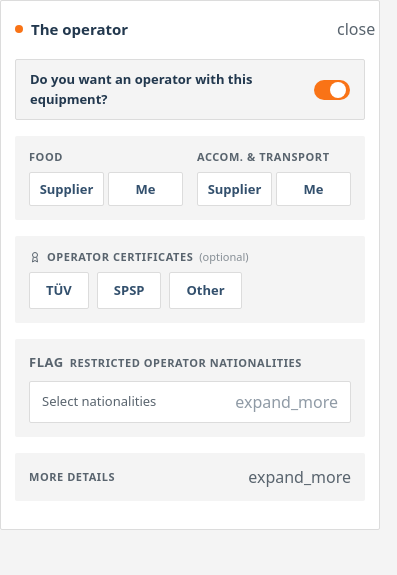
operator certificates (MREQ-AC-27) › reveals a free-text box for Other
Expected: the field with placeholder "Name the certificate" is not shown
Click the button "Other" at (206, 291), box [170,272,242,309]
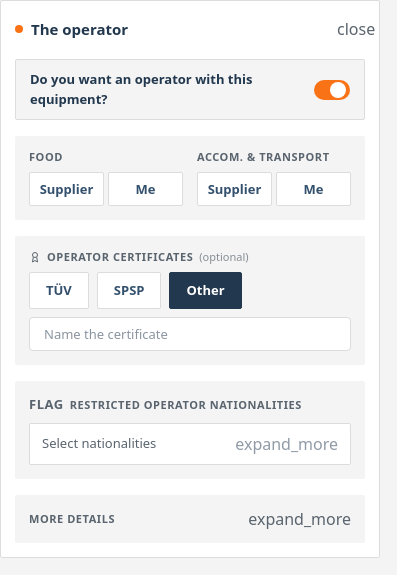
Expected: the field with placeholder "Name the certificate" is shown, [29,317,351,351]
